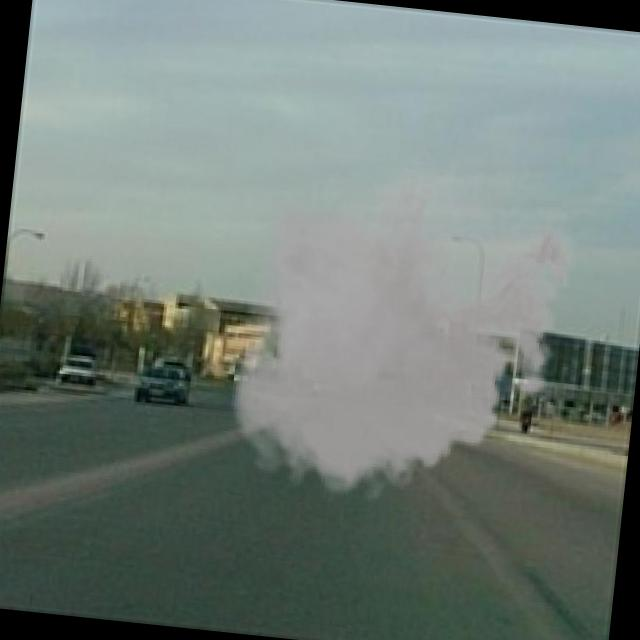Smoke: (210, 137, 591, 529)
